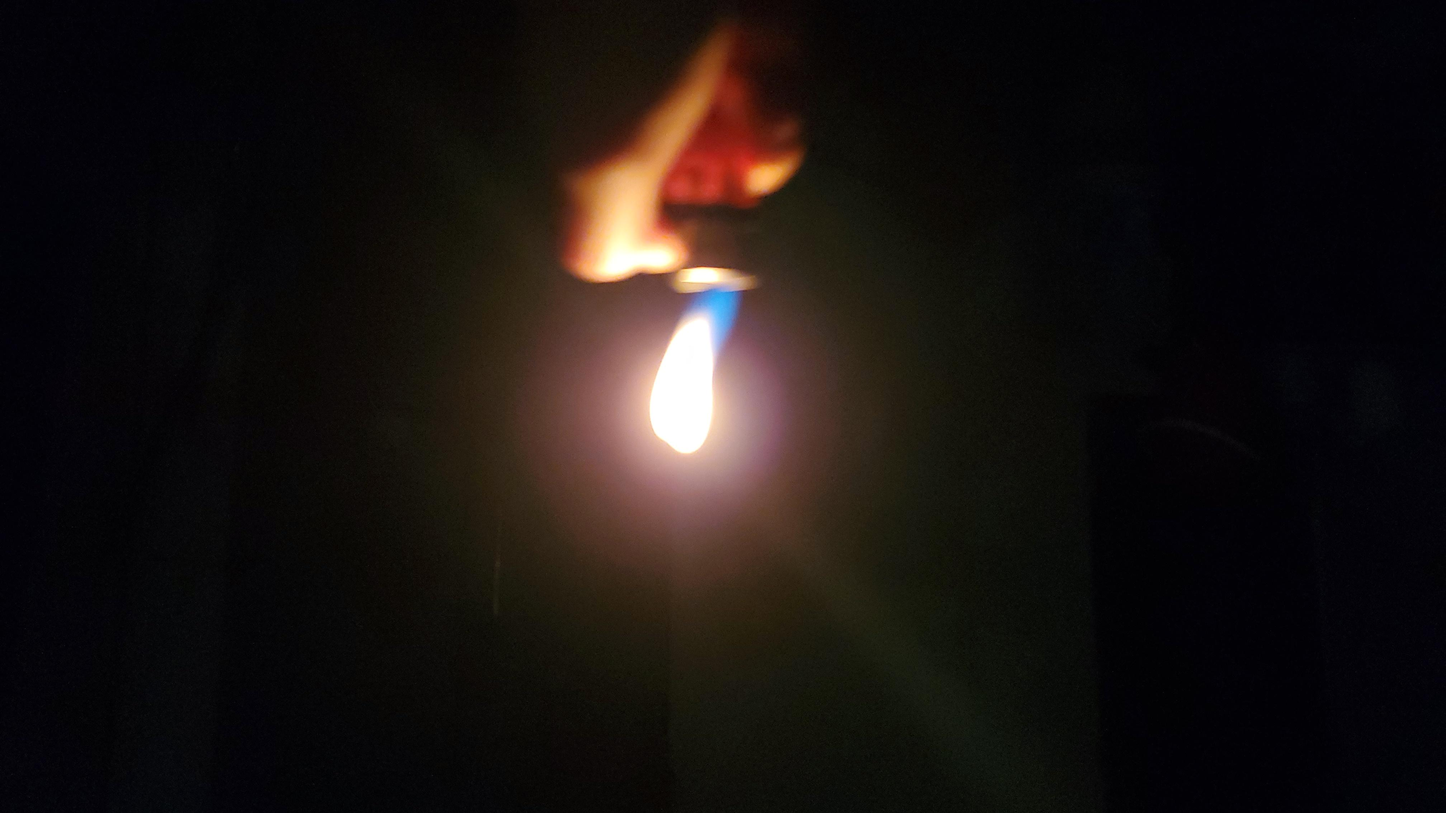fire: (728, 341, 821, 529)
